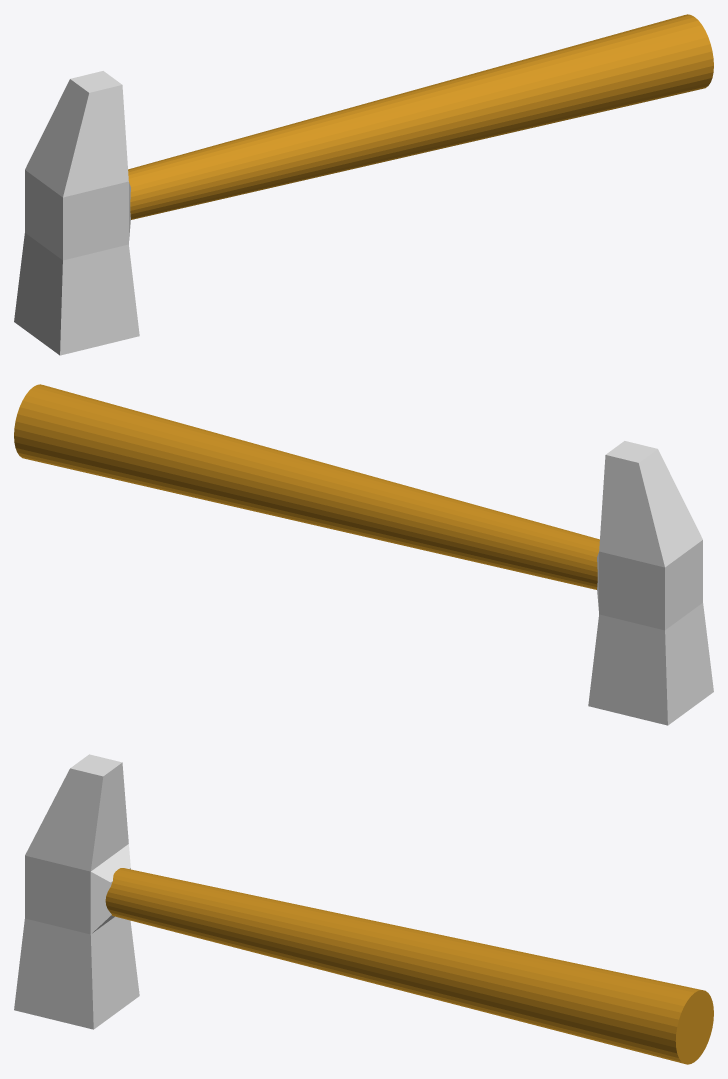
The model's file is Hammer.fbx.
3 views of the same model, one above another, from view 1: azimuth 30°, elevation 25°; view 2: azimuth 150°, elevation 25°; view 3: azimuth 330°, elevation 25° (orthographic).
Parts seen in each view (by area): view 1: Cylinder, Cube; view 2: Cylinder, Cube; view 3: Cylinder, Cube.
Boxes of the visible parts, <box> form: Cylinder: <box>128,14,713,219</box>; Cube: <box>14,71,139,355</box>; Cylinder: <box>14,384,599,589</box>; Cube: <box>588,441,713,725</box>; Cylinder: <box>105,868,713,1064</box>; Cube: <box>14,754,139,1029</box>.
Size of the model in its own units: 975 by 344 by 118.
